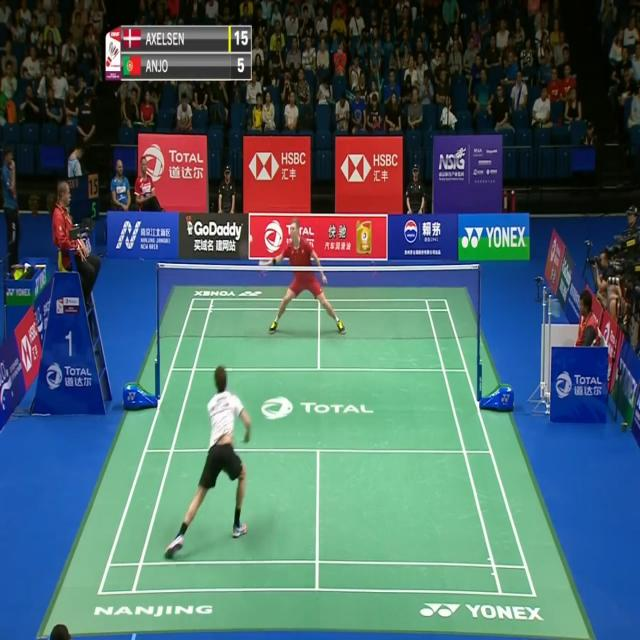Player1: (162, 355, 258, 566)
Player2: (255, 214, 353, 358)
